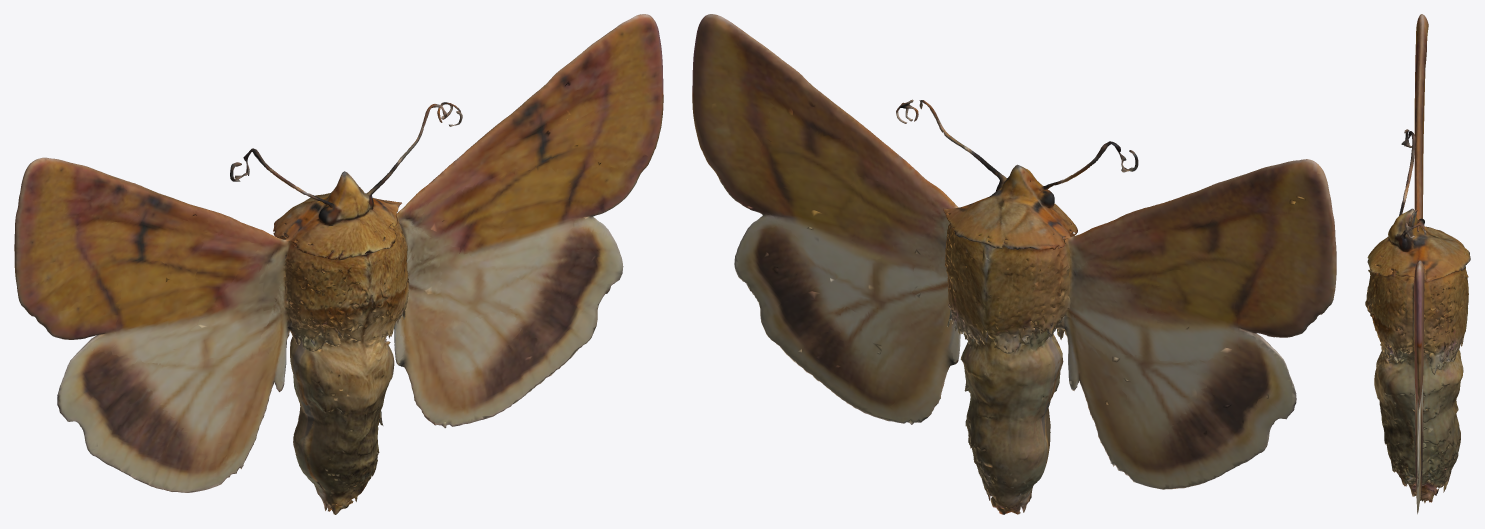
The model's file is papillon.glb.
The picture shows the model from 3 angles, left to right: view 1: azimuth 30°, elevation 25°; view 2: azimuth 150°, elevation 25°; view 3: azimuth 270°, elevation 25°; orthographic projection. The views are drawn at different scales.
Bounding box in the file's own units: 2 × 1.26 × 0.3322.
Materials: 1 (1 with a texture image).
